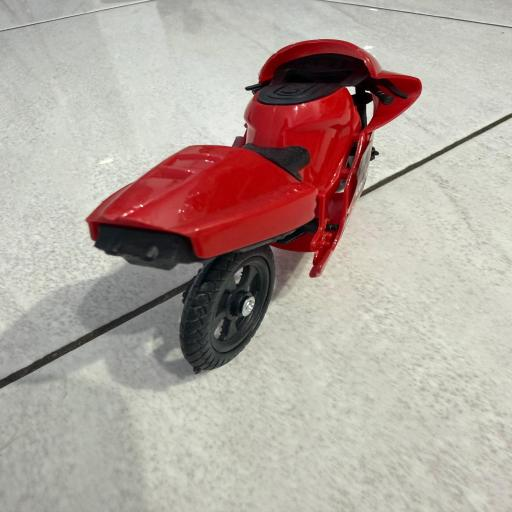motor-merah: (81, 33, 426, 377)
